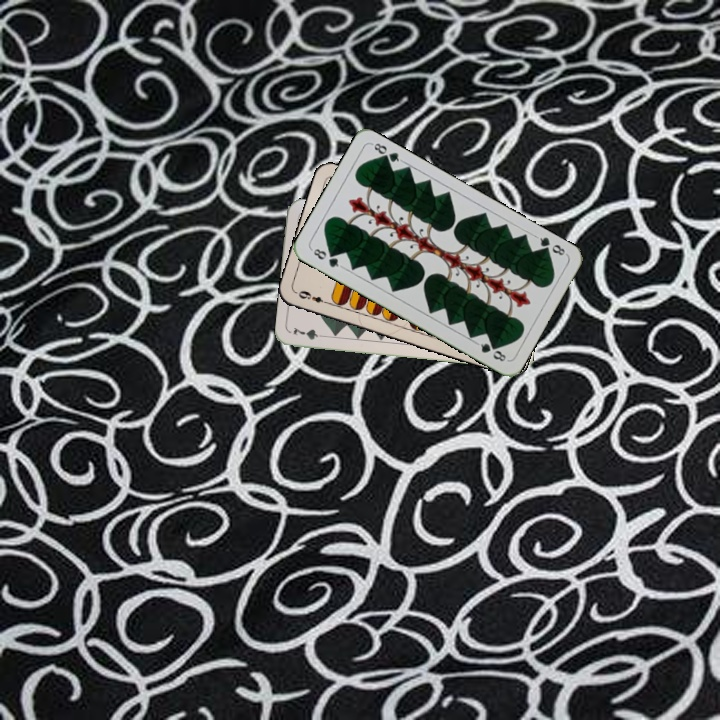E9: (293, 286, 332, 307)
G7: (289, 323, 330, 342)
G8: (307, 244, 345, 270), (532, 232, 568, 258)
